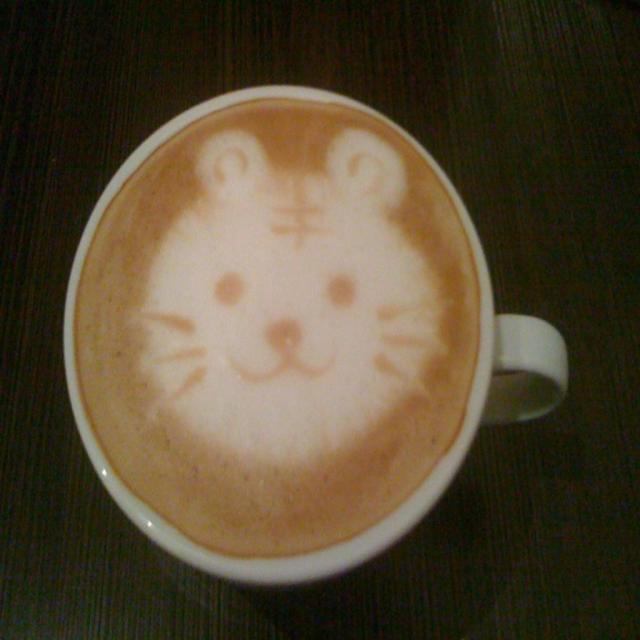latte: (65, 84, 494, 583)
